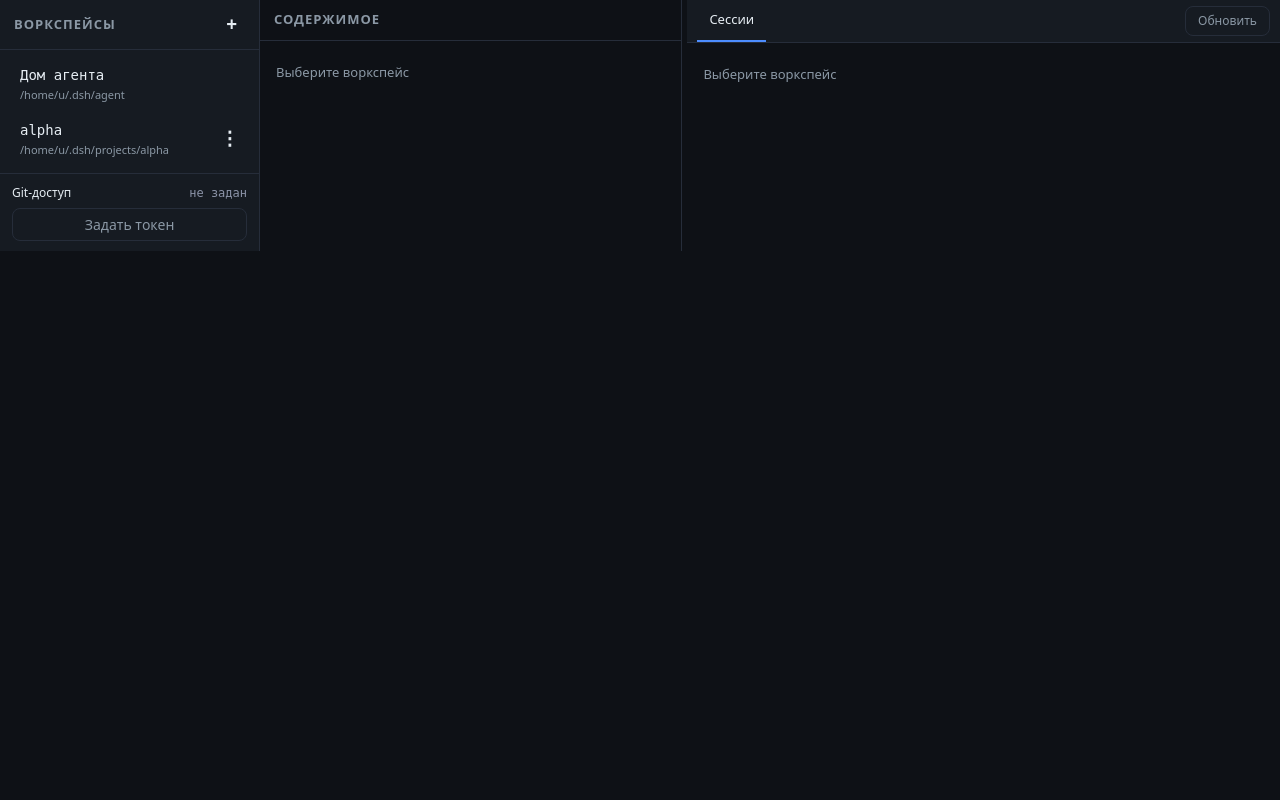
Test case: WorkspacesPage create/delete flows › create failure shows an action banner, keeps the modal open, and a retry clears it
This screenshot has width=1280, height=800.
Click the button with test id "workspace-create-open": (232, 24) [218,10,245,39]
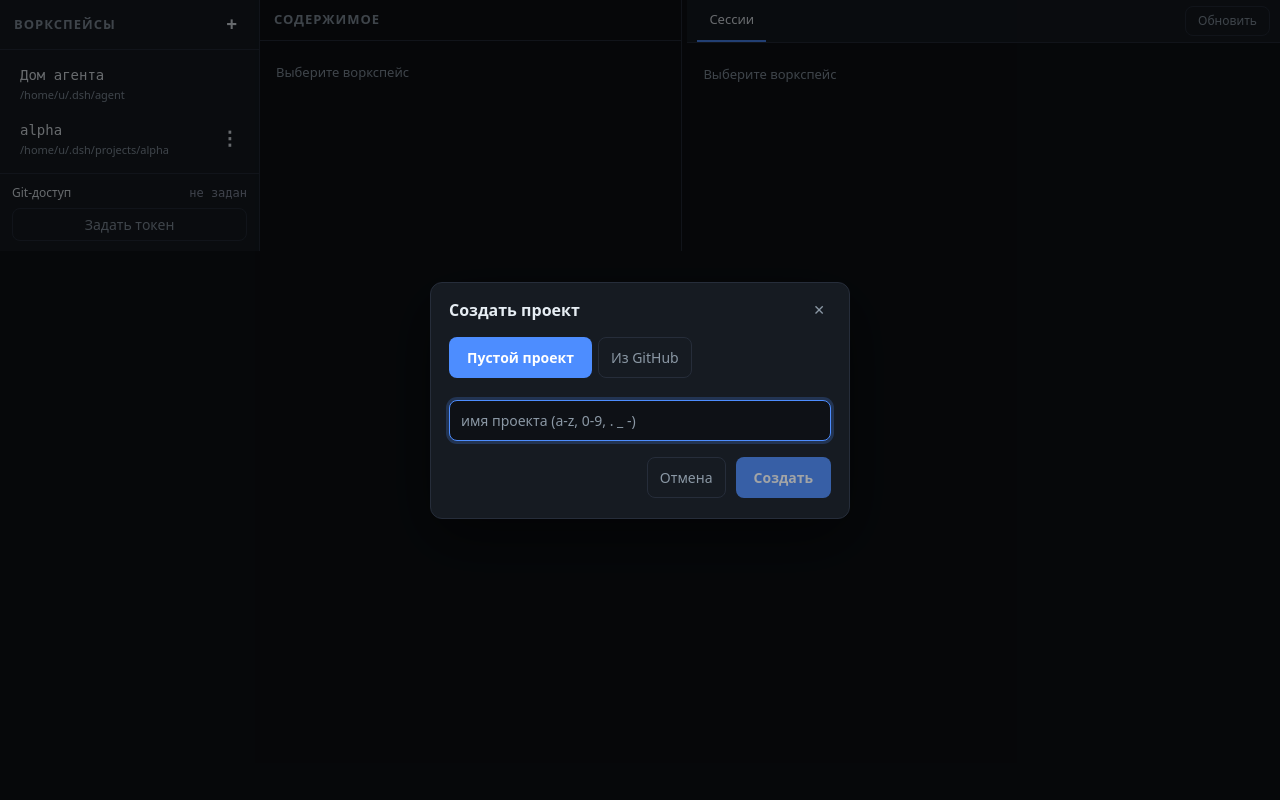
In the field with test id "workspace-name-input": (640, 420) [449,400,831,440], type "beta"
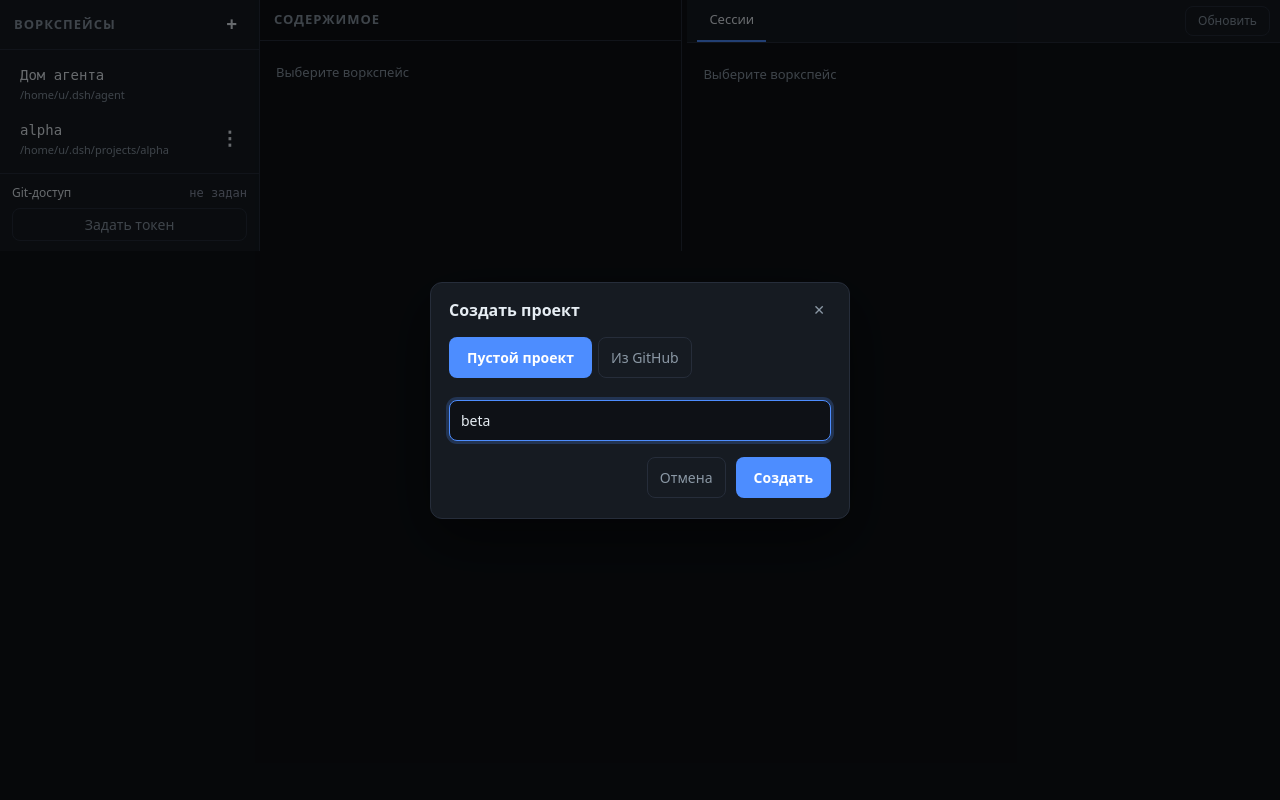
Click the button with test id "workspace-create-submit": (783, 477) [736,456,831,498]
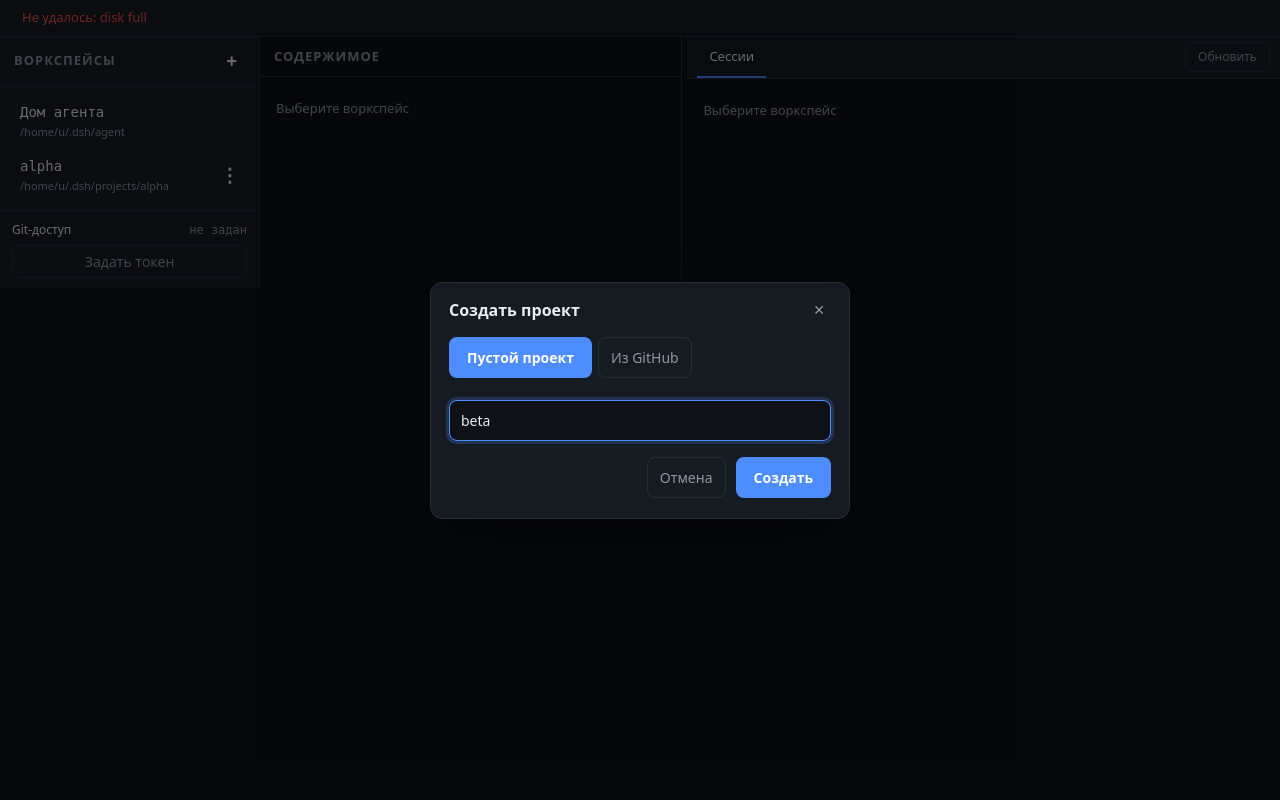
Result: the heading "Создать проект" is shown at [449,298,580,322]
Result: the button with test id "workspace-create-submit" is enabled
Result: the message with test id "workspace-action-error" reads "Не удалось: disk full" at [0,0,1279,36]
a clean retry hides the banner and completes the create
Click the button with test id "workspace-create-submit": (783, 477) [736,456,831,498]
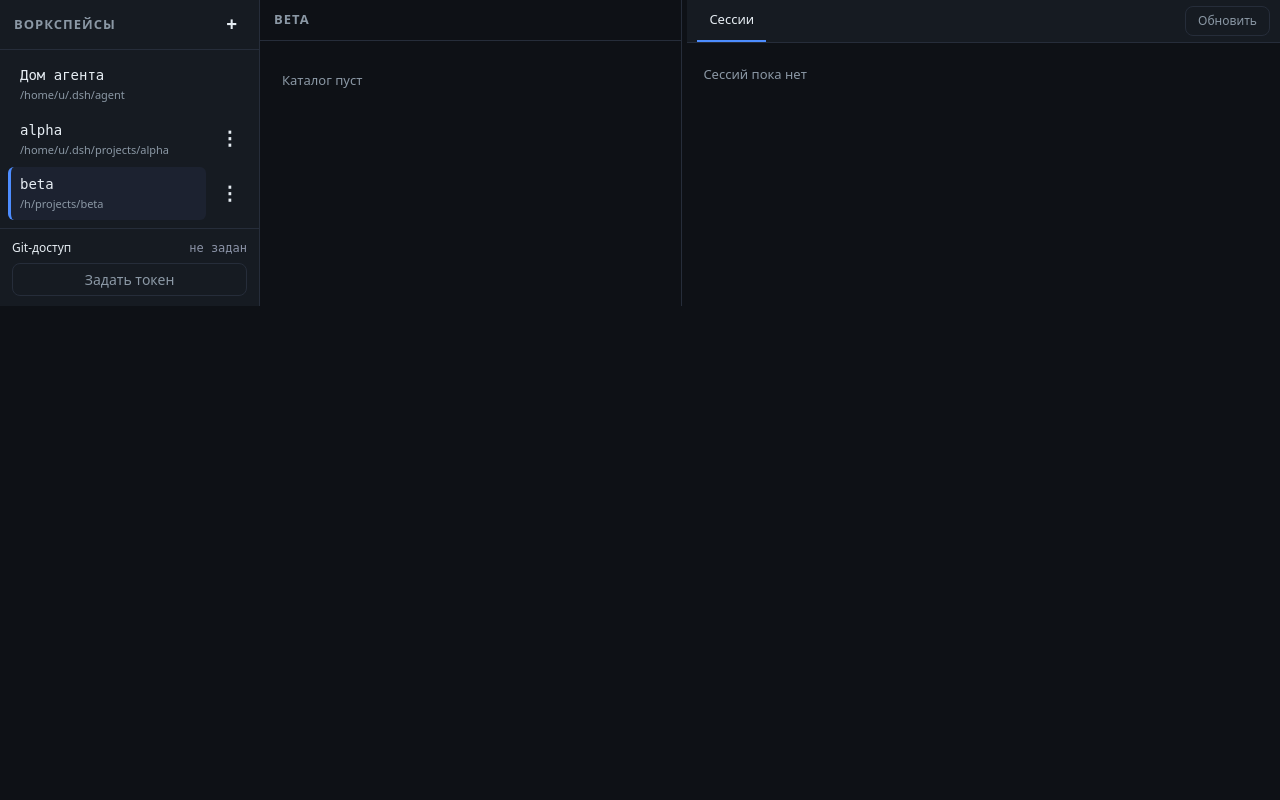
Result: the message with test id "workspace-action-error" is gone
